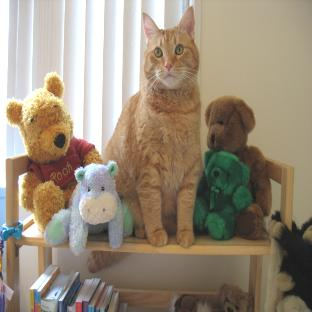Animal: (102, 7, 202, 247)
